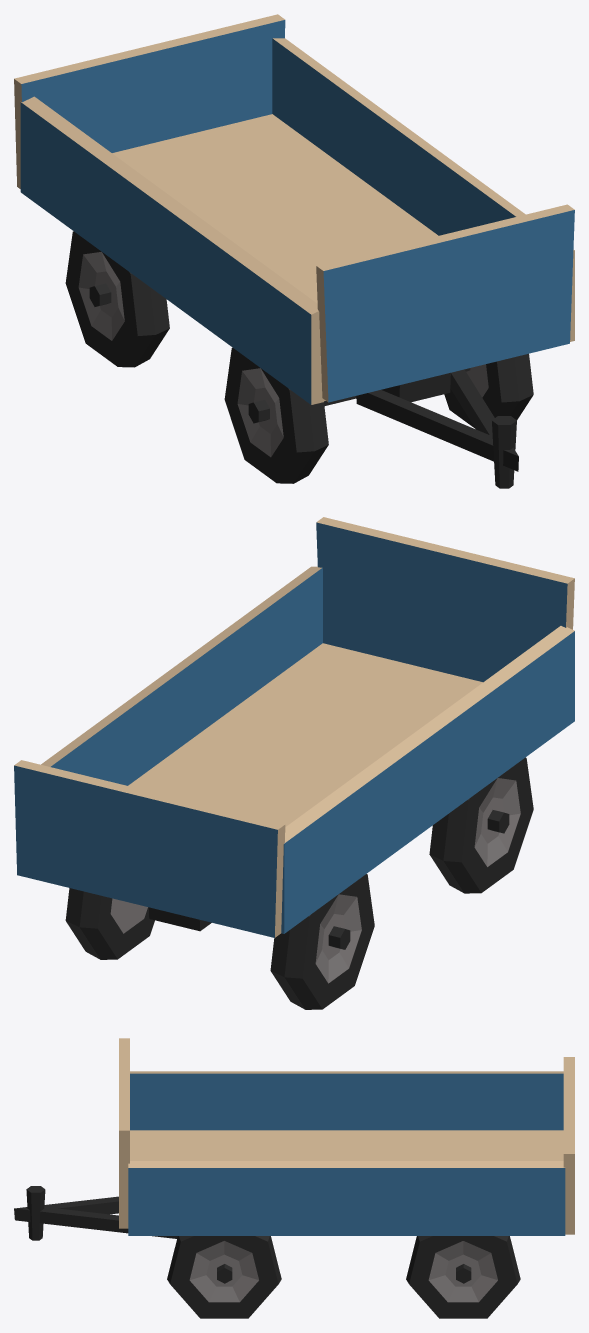
File: farm_tractor-carriage.fbx
The picture shows the model from 3 angles, top to bottom: view 1: azimuth 30°, elevation 25°; view 2: azimuth 150°, elevation 25°; view 3: azimuth 270°, elevation 25°; orthographic projection. The views are drawn at different scales.
Parts seen in each view (by area): view 1: tractor_carriage_base, tractor_carriag_wheels_F, tractor_carriag_wheels_B; view 2: tractor_carriage_base, tractor_carriag_wheels_B, tractor_carriag_wheels_F; view 3: tractor_carriage_base, tractor_carriag_wheels_F, tractor_carriag_wheels_B.
Boxes of the visible parts, x1,y1,x2,y2 form: tractor_carriage_base: (14,14,574,488); tractor_carriag_wheels_F: (224,347,533,483); tractor_carriag_wheels_B: (65,231,169,367); tractor_carriage_base: (14,517,574,937); tractor_carriag_wheels_B: (65,874,374,1009); tractor_carriag_wheels_F: (429,757,533,893); tractor_carriage_base: (14,1038,574,1240); tractor_carriag_wheels_F: (167,1236,281,1318); tractor_carriag_wheels_B: (406,1236,520,1318).
Size of the model in its own units: 81.68 by 76.06 by 200.
